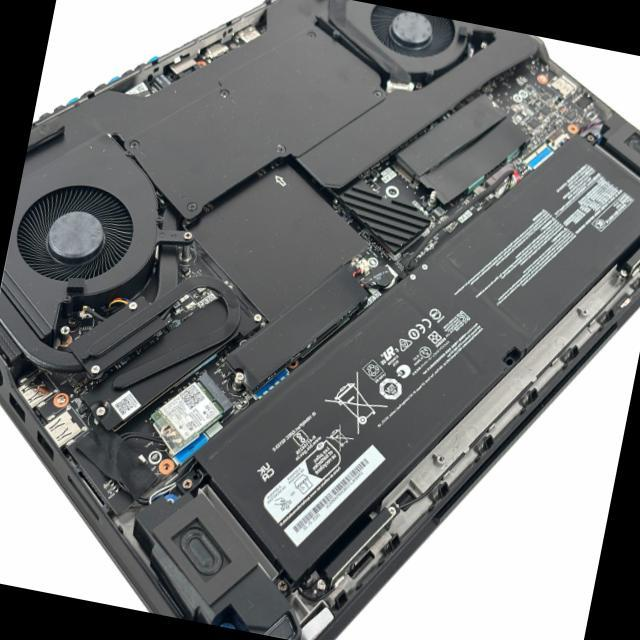Battery: (196, 137, 640, 580), (229, 262, 364, 389)
